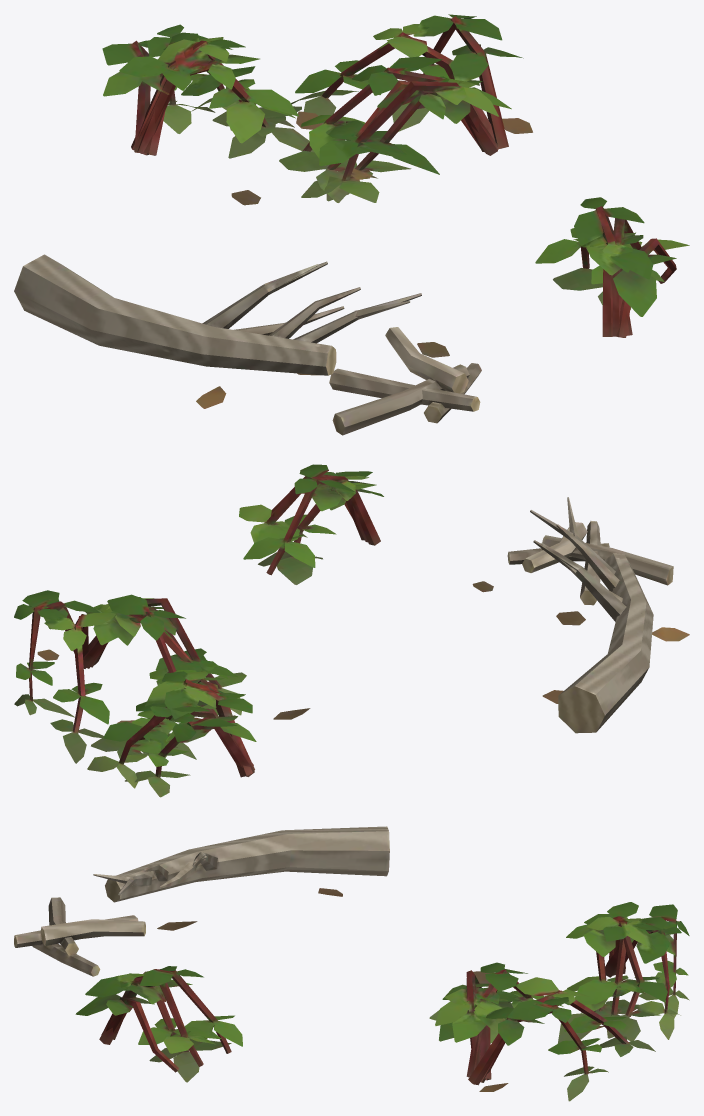
The model's file is rough-forest-3.glb.
3 renders of one model, top to bottom at view 1: azimuth 30°, elevation 25°; view 2: azimuth 150°, elevation 25°; view 3: azimuth 270°, elevation 25°, orthographic. The views are drawn at different scales.
Parts seen in each view (by area): view 1: rough-forest-3; view 2: rough-forest-3; view 3: rough-forest-3.
Part boxes in pixels (x1,y1,x2,y2): rough-forest-3: (14,14,689,435); rough-forest-3: (14,464,689,797); rough-forest-3: (14,826,689,1101).
Bounding box in the file's own units: 1.31 × 0.2421 × 1.59.
Materials: 1 (1 with a texture image).
